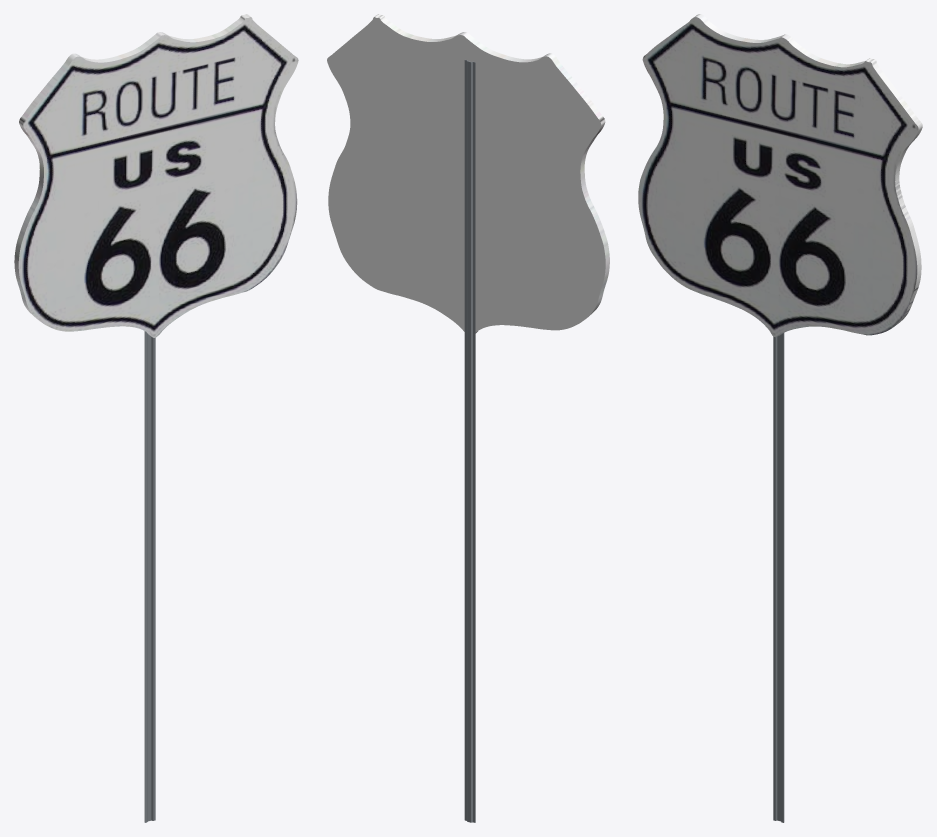
The model's file is RT66sign.obj.
3 renders of one model, left to right at view 1: azimuth 30°, elevation 25°; view 2: azimuth 150°, elevation 25°; view 3: azimuth 330°, elevation 25°, orthographic.
Visible parts, largest first — view 1: Sign_Mesh, Cube_Cube.001; view 2: Sign_Mesh, Cube_Cube.001; view 3: Sign_Mesh, Cube_Cube.001.
Boxes of the visible parts, x1,y1,x2,y2 form: Sign_Mesh: (14,14,298,337); Cube_Cube.001: (144,331,155,822); Sign_Mesh: (327,14,609,333); Cube_Cube.001: (464,59,475,822); Sign_Mesh: (638,14,922,337); Cube_Cube.001: (773,333,784,822).
Size of the model in its own units: 1.31 by 3.52 by 0.0446.
Materials: 2 (1 with a texture image).
